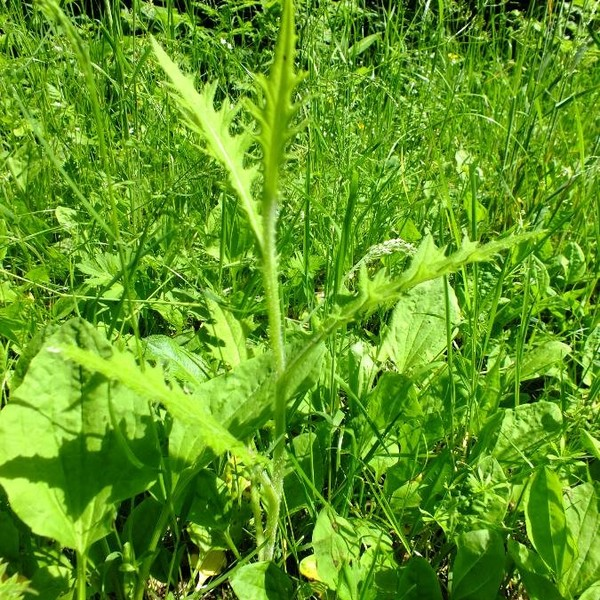obstacle: (136, 60, 543, 576)
